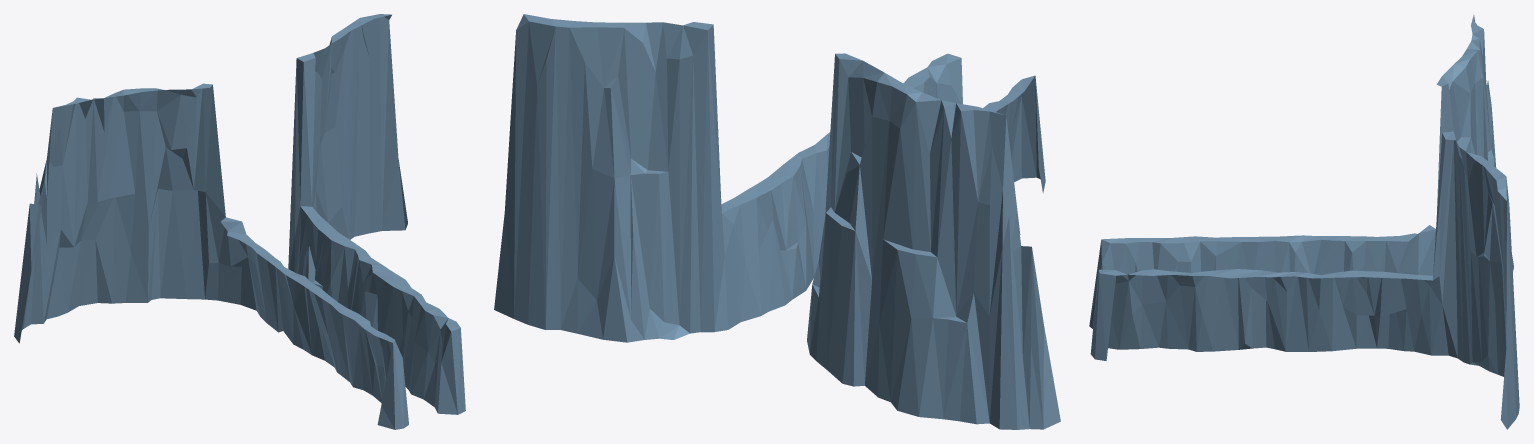
File: Cave2Low.fbx
3 renders of one model, left to right at view 1: azimuth 30°, elevation 25°; view 2: azimuth 150°, elevation 25°; view 3: azimuth 270°, elevation 25°, orthographic. The views are drawn at different scales.
Parts seen in each view (by area): view 1: Cave2; view 2: Cave2; view 3: Cave2.
Boxes of the visible parts, x1,y1,x2,y2 form: Cave2: (14,14,465,429); Cave2: (494,14,1060,429); Cave2: (1089,14,1519,429).
Bounding box in the file's own units: 39485 × 20894 × 35235.
